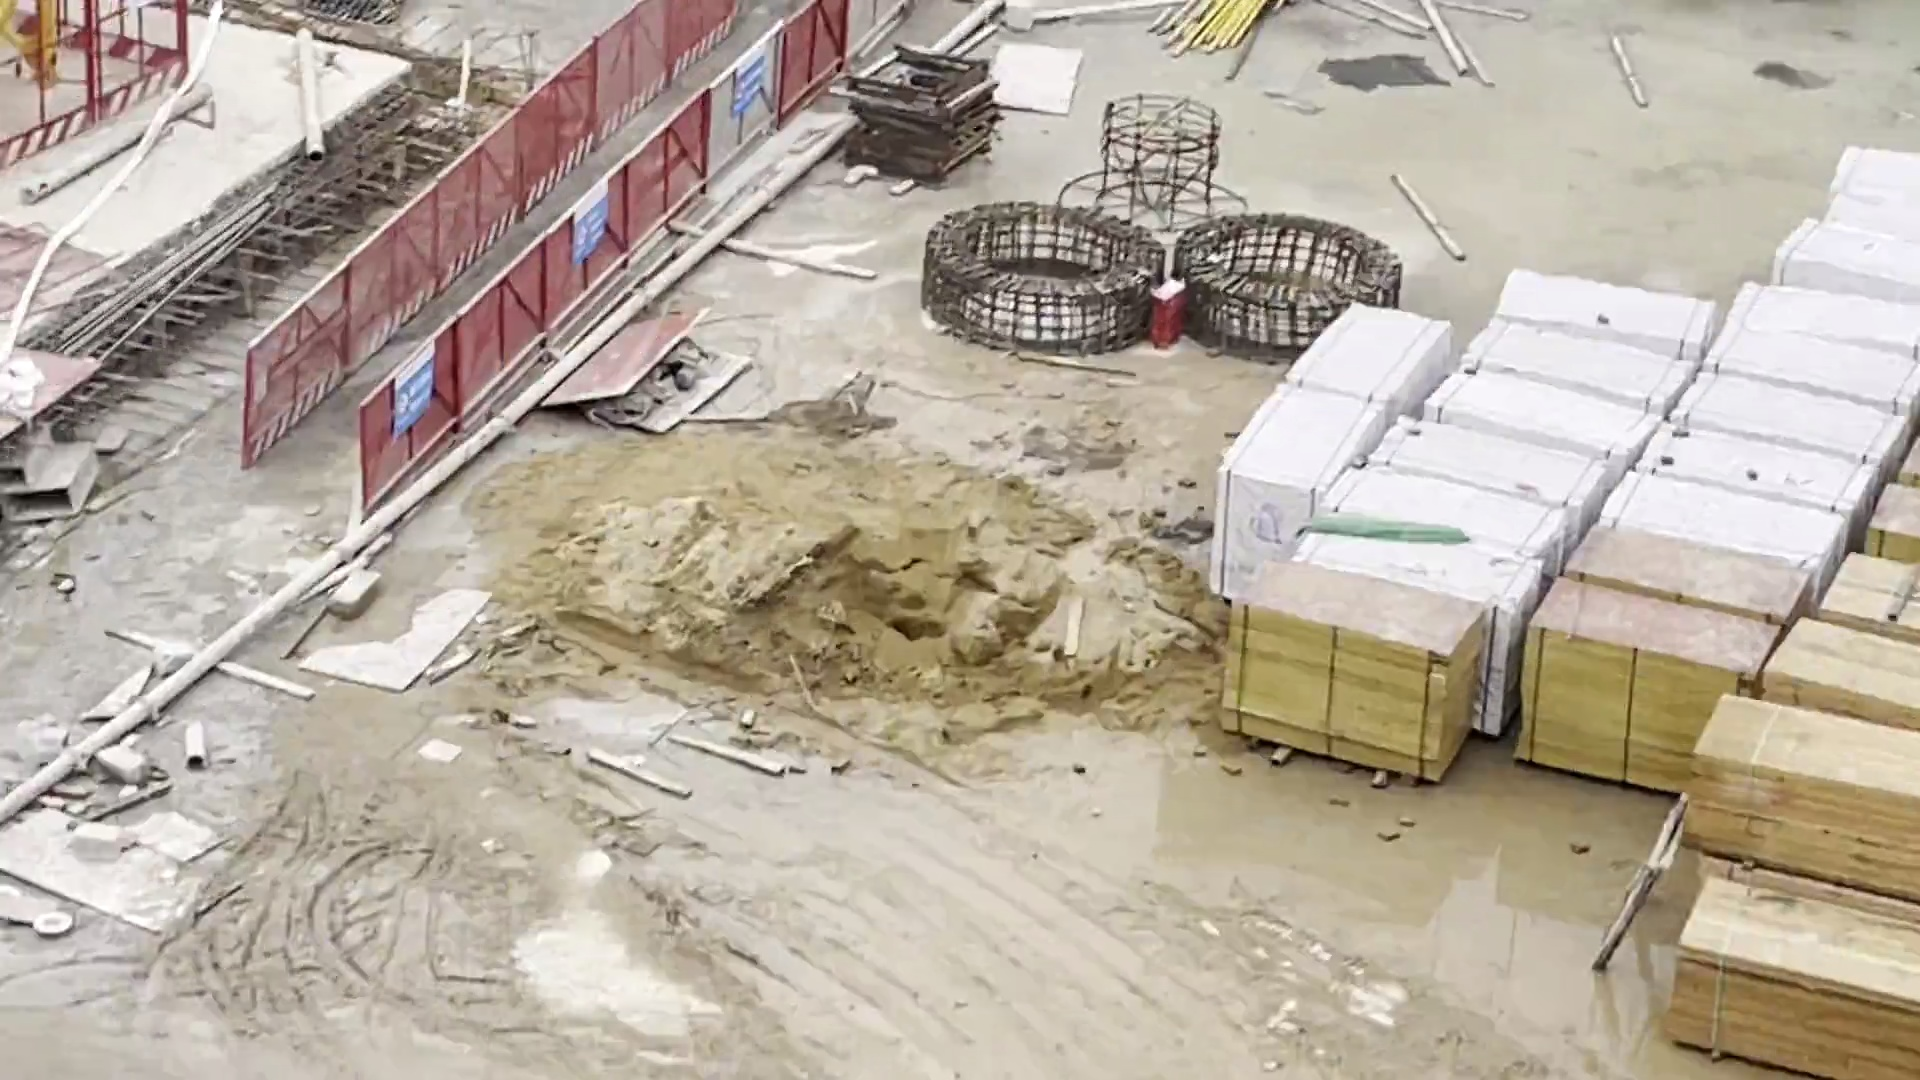board: (1232, 545, 1480, 789), (1516, 574, 1749, 825), (1652, 868, 1916, 1080), (1677, 670, 1920, 862), (1601, 524, 1811, 626), (1779, 597, 1920, 713)
fence: (224, 8, 824, 460), (1, 1, 191, 173)
slogan: (368, 342, 460, 436), (568, 179, 624, 280), (729, 41, 779, 132)
